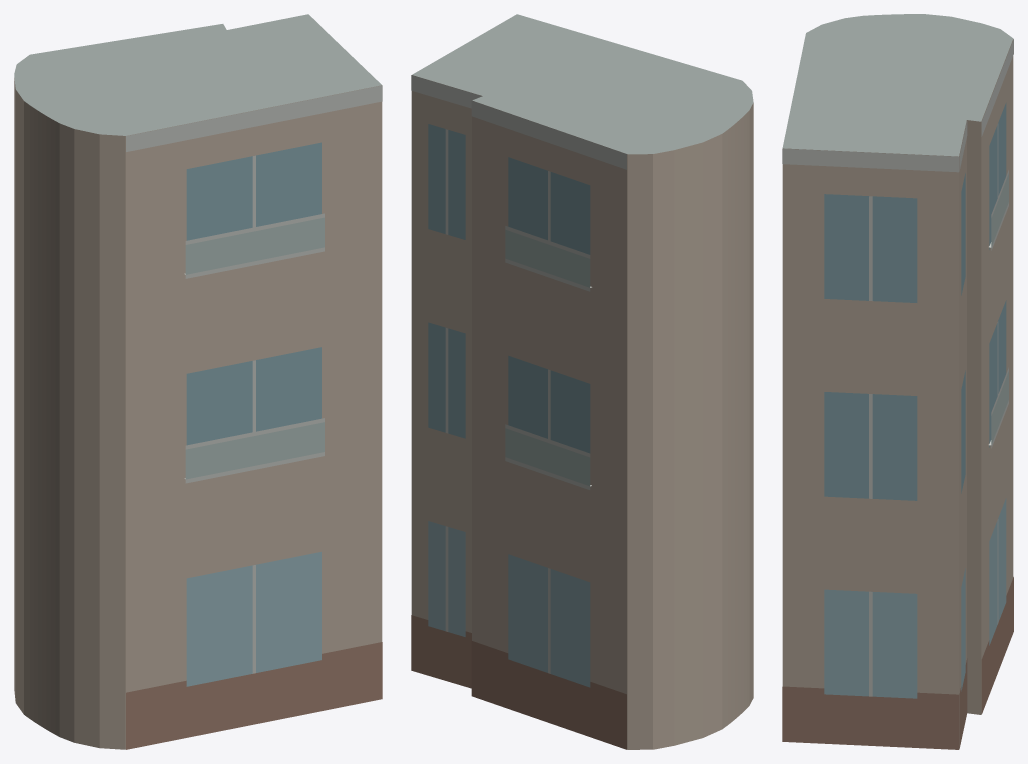
File: survey-upis-32470401.glb
3 views of the same model, side by side, from view 1: azimuth 30°, elevation 25°; view 2: azimuth 150°, elevation 25°; view 3: azimuth 270°, elevation 25° (orthographic). The views are drawn at different scales.
Visible parts, largest first — view 1: survey-upis-32470401.tmp; view 2: survey-upis-32470401.tmp; view 3: survey-upis-32470401.tmp.
Part boxes in pixels (x1,y1,x2,y2): survey-upis-32470401.tmp: [14, 14, 382, 749]; survey-upis-32470401.tmp: [411, 14, 753, 749]; survey-upis-32470401.tmp: [782, 14, 1013, 749].
Bounding box in the file's own units: 4.72 × 9.15 × 3.24.
